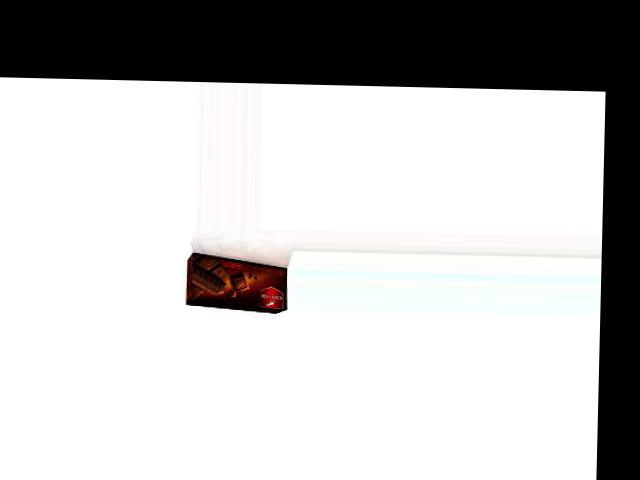chocolate: (187, 250, 288, 314)
